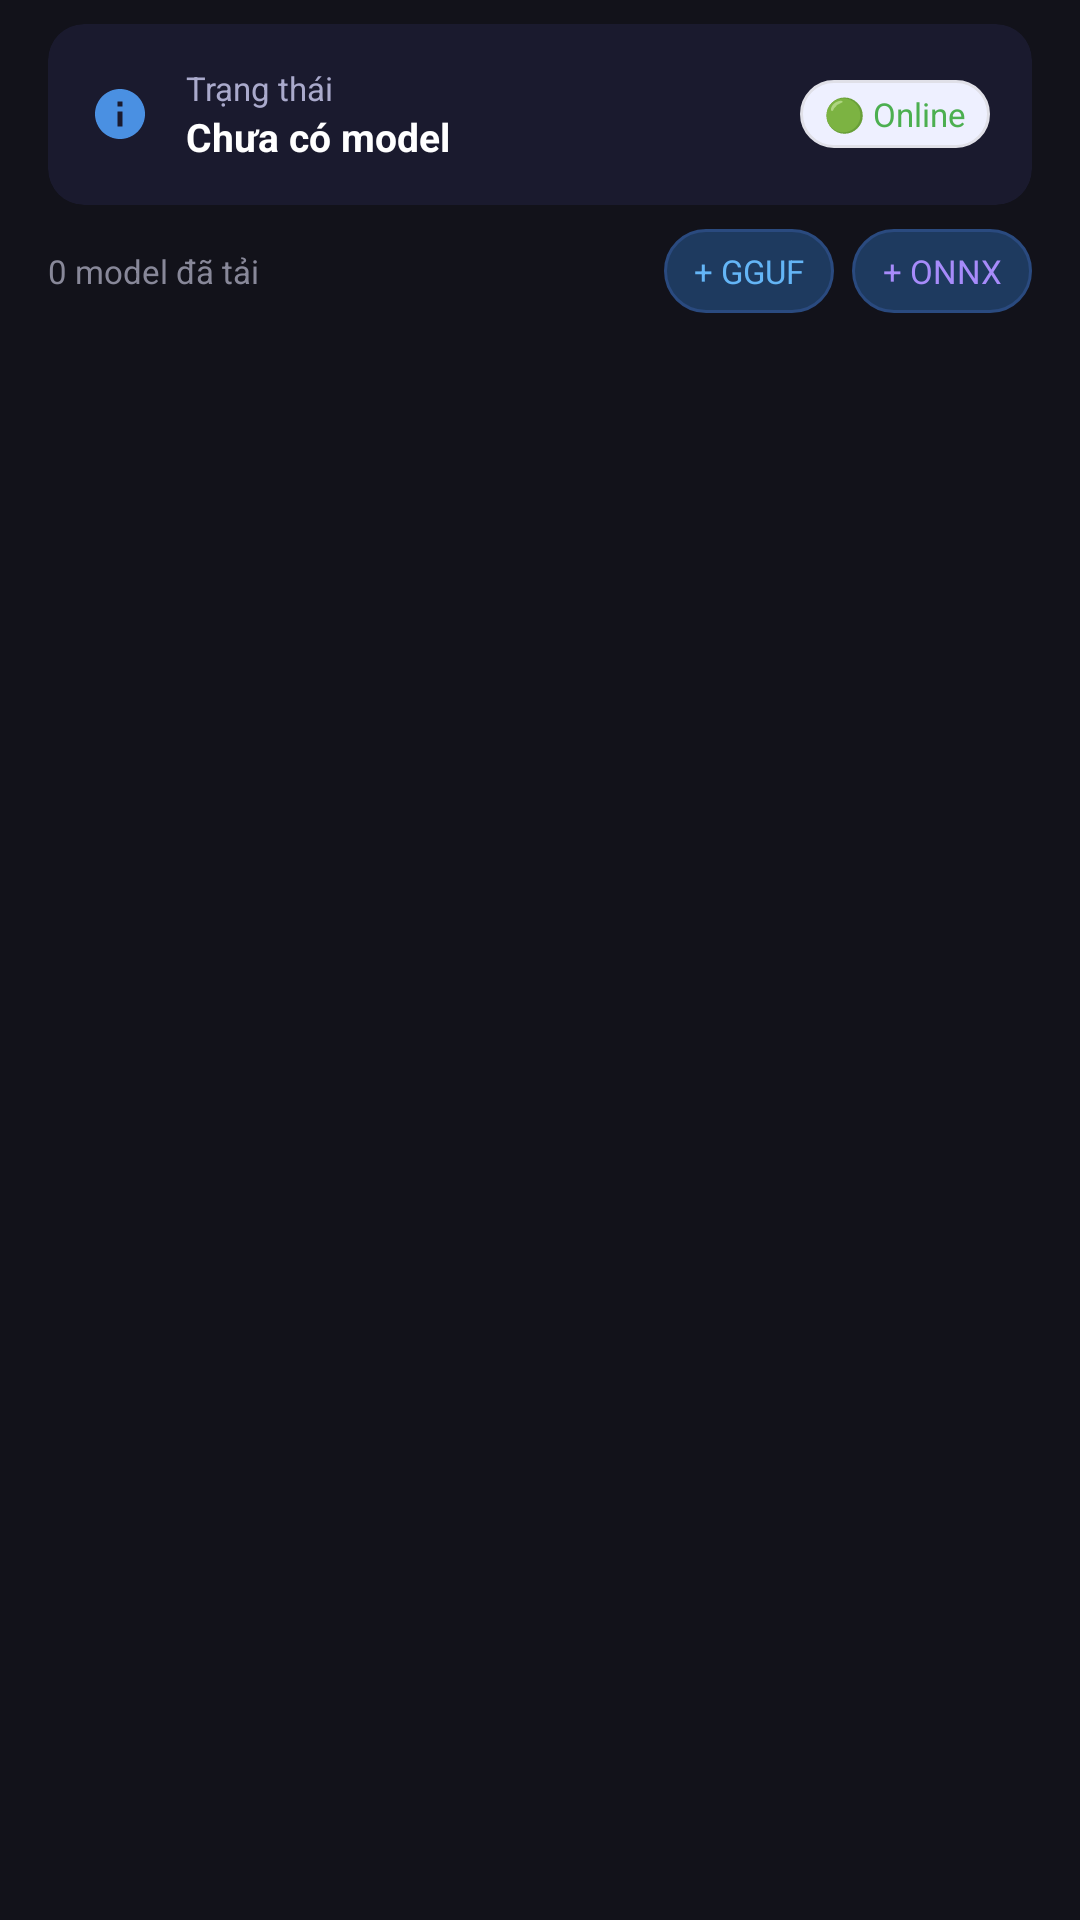

Named icons in this screenshot (1080x1920) and their bounding boxes, Rect(x1, y1, x2, y2):
info: Rect(95, 89, 145, 139)
